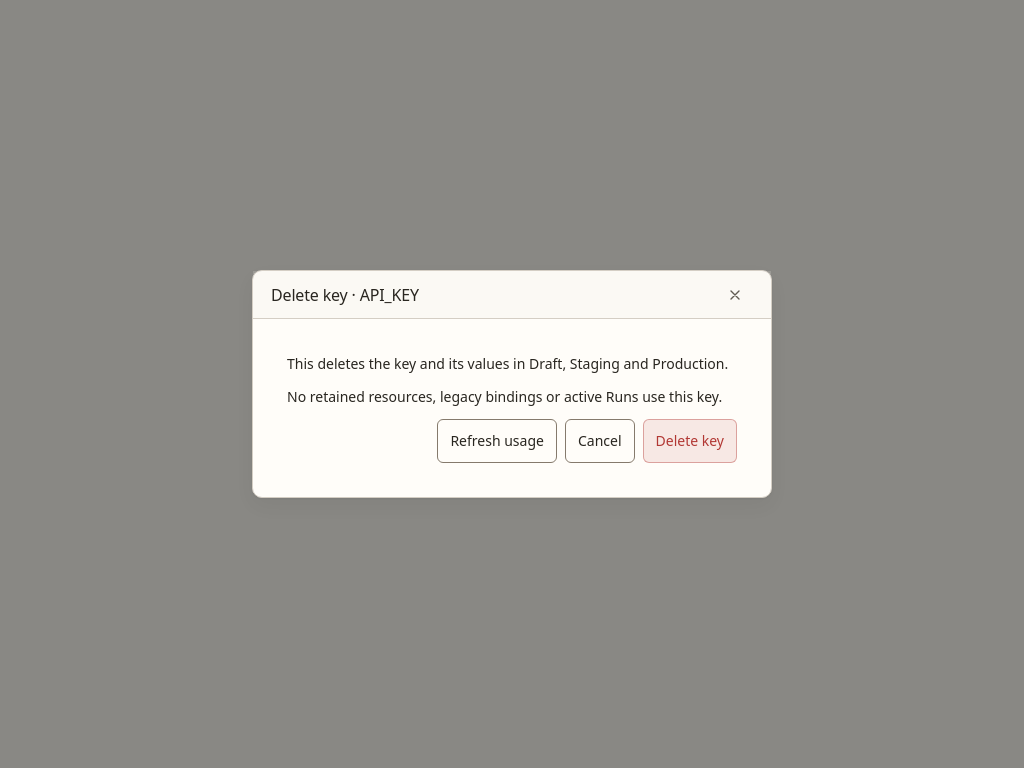
Scenario: Configuration deletion › rechecks usage when a dependency appears after confirmation
This screenshot has width=1024, height=768.
Click the button "Delete key" at (690, 441), box [642,419,737,463]
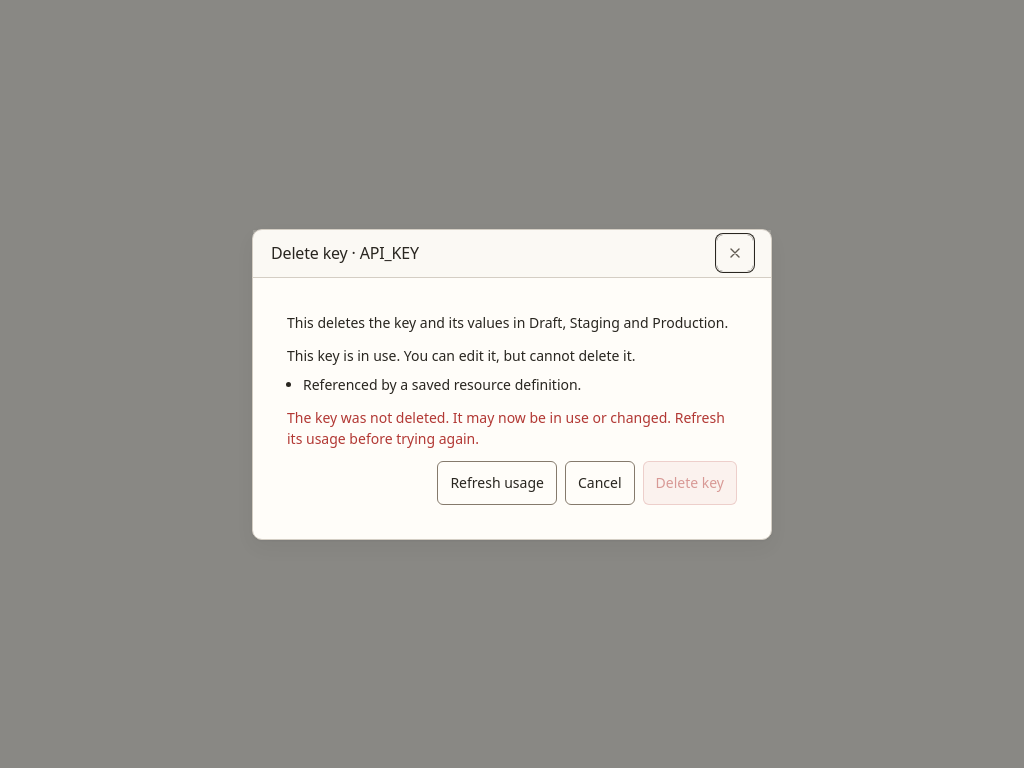
Check: the button "Delete key" is disabled, box [642,460,737,504]
